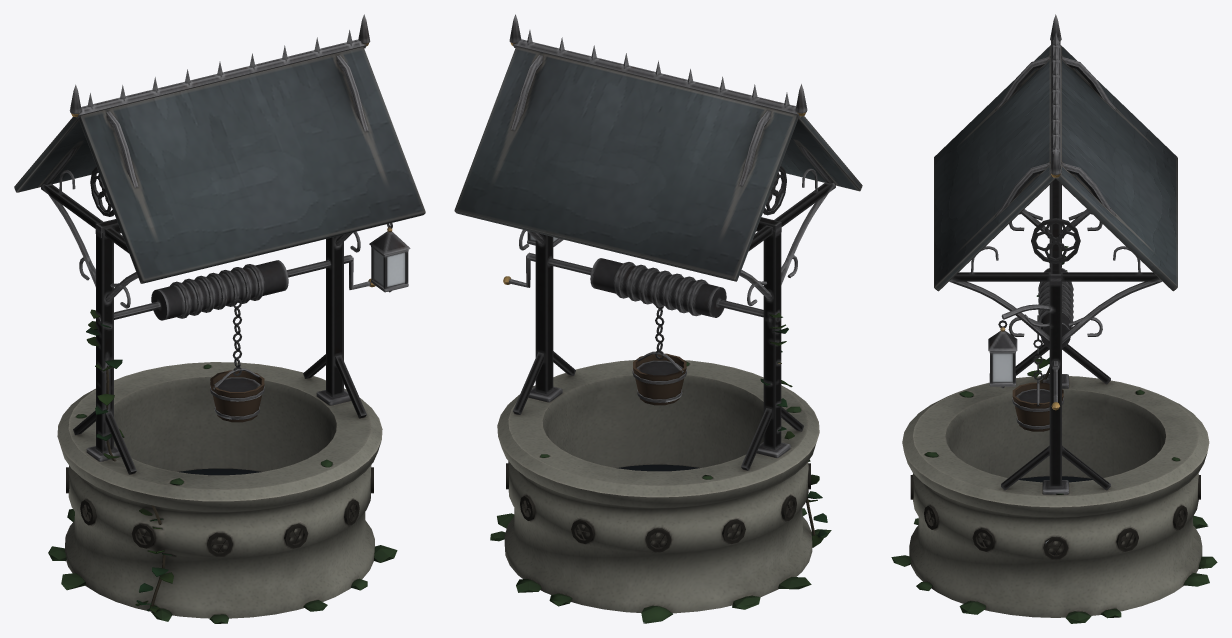
File: Well.fbx
3 views of the same model, side by side, from view 1: azimuth 30°, elevation 25°; view 2: azimuth 150°, elevation 25°; view 3: azimuth 270°, elevation 25° (orthographic). The views are drawn at different scales.
Visible parts, largest first — view 1: Well_Main, Well_Glass; view 2: Well_Main; view 3: Well_Main, Well_Glass.
Part boxes in pixels (bbox=[...]): Well_Main: bbox=[14, 14, 425, 623]; Well_Glass: bbox=[374, 250, 405, 286]; Well_Main: bbox=[454, 14, 862, 623]; Well_Main: bbox=[891, 14, 1217, 623]; Well_Glass: bbox=[992, 353, 1012, 382].
Size of the model in its own units: 384 by 599 by 369.
